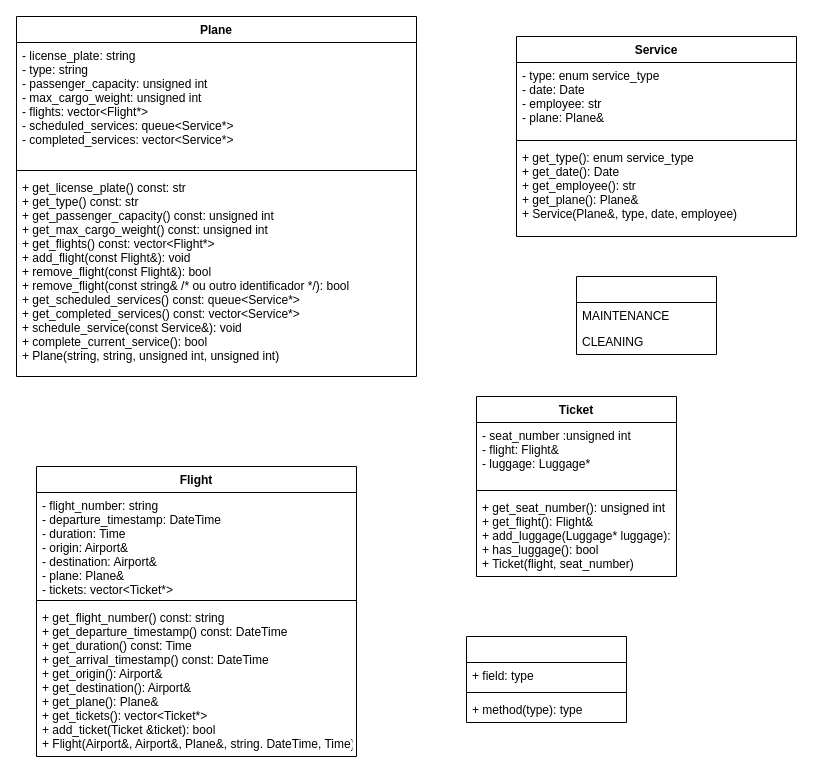
Some shapes in this 813 by 773 pixel diagram are drawn without their labels. Here are the shapes that lost their labels. From the top down, the box of each, then its label:
(576, 276, 716, 354): enum service_type
(466, 636, 626, 722): Luggage
